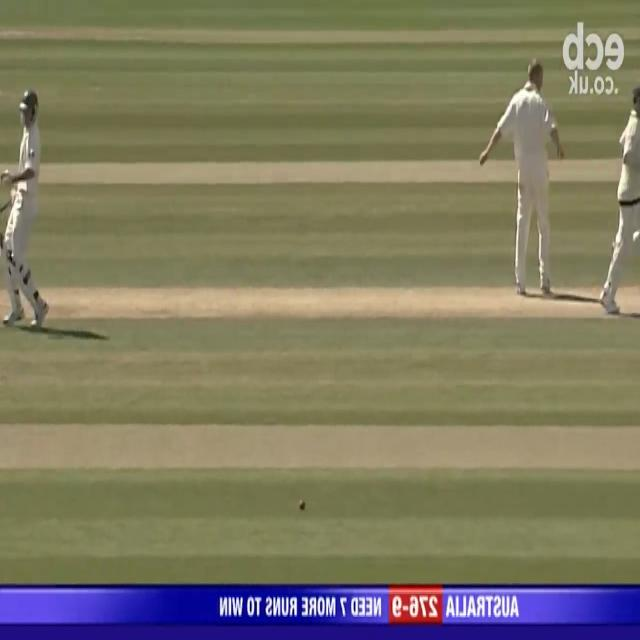ball: (295, 494, 308, 518)
